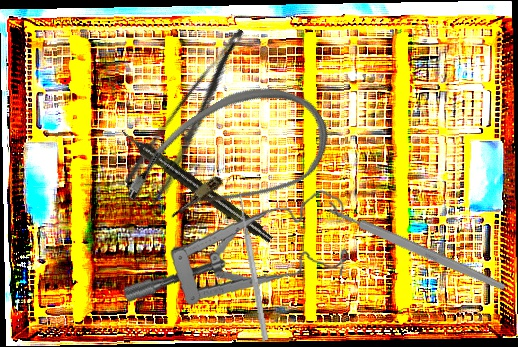Cannula: (110, 59, 345, 263)
Dressing Forceps: (120, 25, 273, 207)
Handpiece: (116, 124, 276, 247)
Pusher: (235, 193, 271, 342)
Scalpel Handle: (327, 204, 507, 293)
Speculum: (120, 173, 357, 322)
